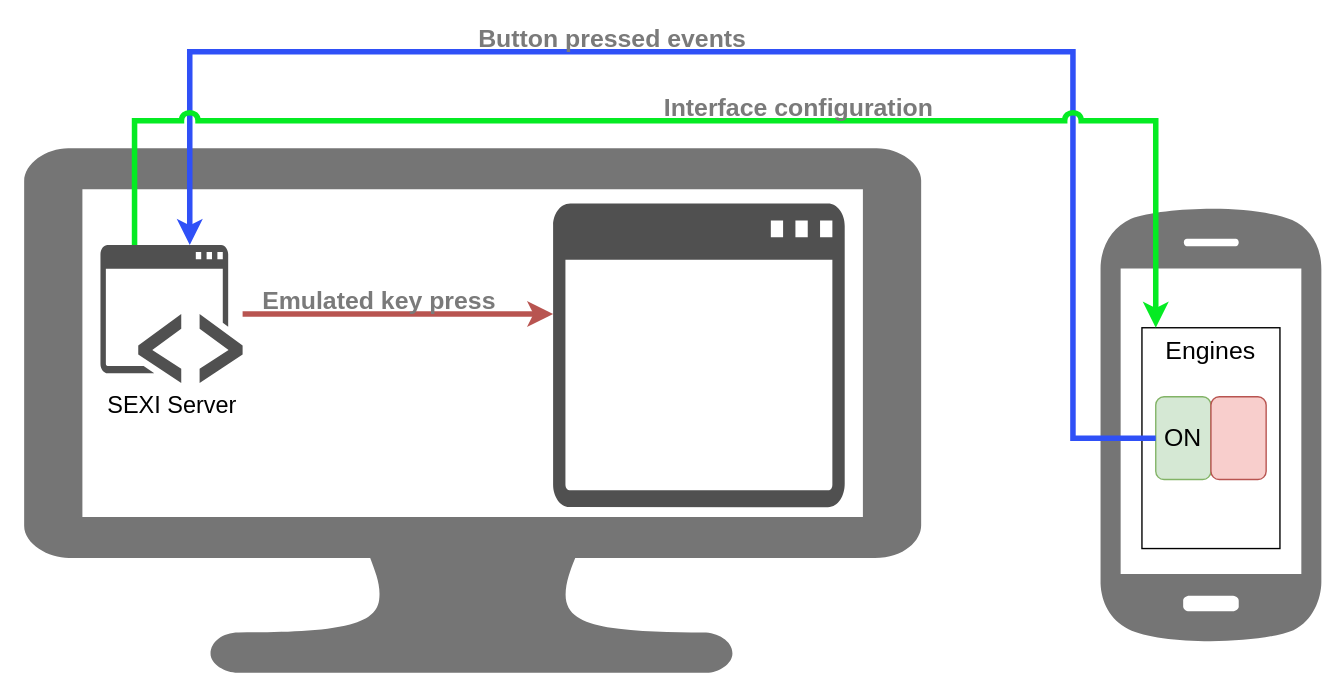
The diagram is 1344 pixels wide and 697 high, and some of its shapes have lost their labels. The shapes that lost their labels are listed below. From the top down, each one's centre as x and y in pixels, then its label:
point 698,354: Space Engineers
point 1238,437: OFF
